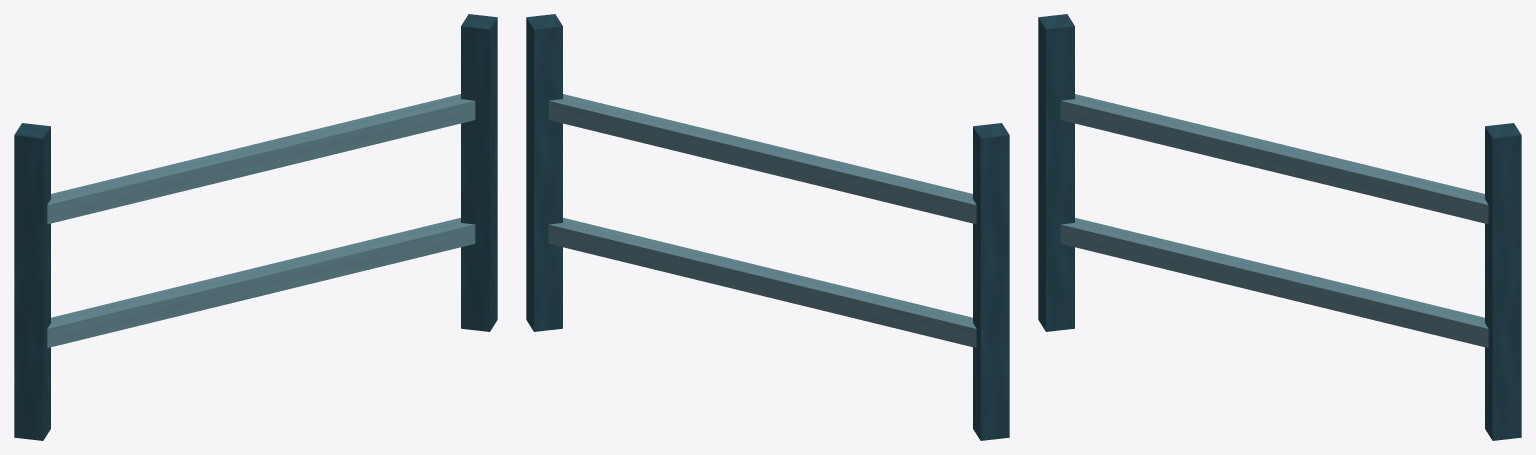
File: atlas100-abyss-util04.lod2.glb
3 renders of one model, left to right at view 1: azimuth 30°, elevation 25°; view 2: azimuth 150°, elevation 25°; view 3: azimuth 330°, elevation 25°, orthographic.
Parts seen in each view (by area): view 1: atlas100-abyss-util04:part-004, atlas100-abyss-util04:part-005, atlas100-abyss-util04:part-000, atlas100-abyss-util04:part-002; view 2: atlas100-abyss-util04:part-004, atlas100-abyss-util04:part-005, atlas100-abyss-util04:part-000, atlas100-abyss-util04:part-002; view 3: atlas100-abyss-util04:part-004, atlas100-abyss-util04:part-005, atlas100-abyss-util04:part-002, atlas100-abyss-util04:part-000.
Part boxes in pixels (left/top/right/bottom): atlas100-abyss-util04:part-004: left=47, top=217, right=475, bottom=347; atlas100-abyss-util04:part-005: left=47, top=94, right=475, bottom=224; atlas100-abyss-util04:part-000: left=14, top=123, right=50, bottom=440; atlas100-abyss-util04:part-002: left=461, top=14, right=497, bottom=331; atlas100-abyss-util04:part-004: left=548, top=217, right=976, bottom=347; atlas100-abyss-util04:part-005: left=548, top=94, right=976, bottom=224; atlas100-abyss-util04:part-000: left=973, top=123, right=1009, bottom=440; atlas100-abyss-util04:part-002: left=526, top=14, right=562, bottom=331; atlas100-abyss-util04:part-004: left=1060, top=217, right=1488, bottom=347; atlas100-abyss-util04:part-005: left=1060, top=94, right=1488, bottom=224; atlas100-abyss-util04:part-002: left=1485, top=123, right=1521, bottom=440; atlas100-abyss-util04:part-000: left=1038, top=14, right=1074, bottom=331.
Size of the model in its own units: 2.09 by 1.25 by 0.1593.
Materials: 2 (2 with a texture image).
